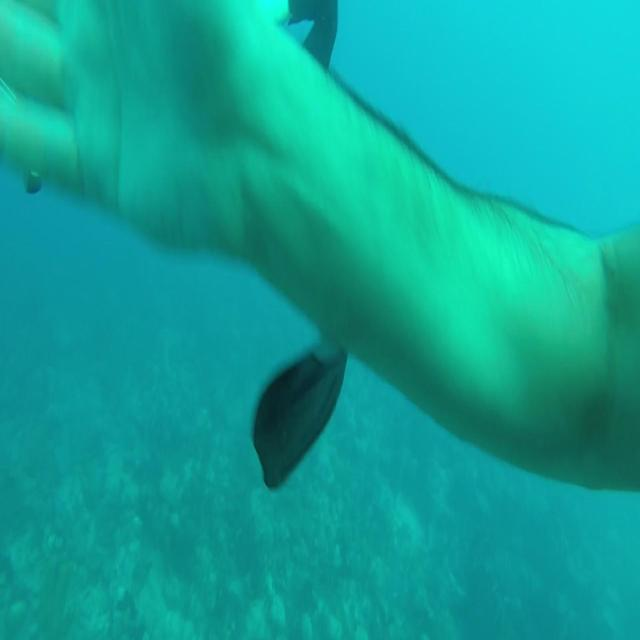human: (1, 0, 638, 494)
